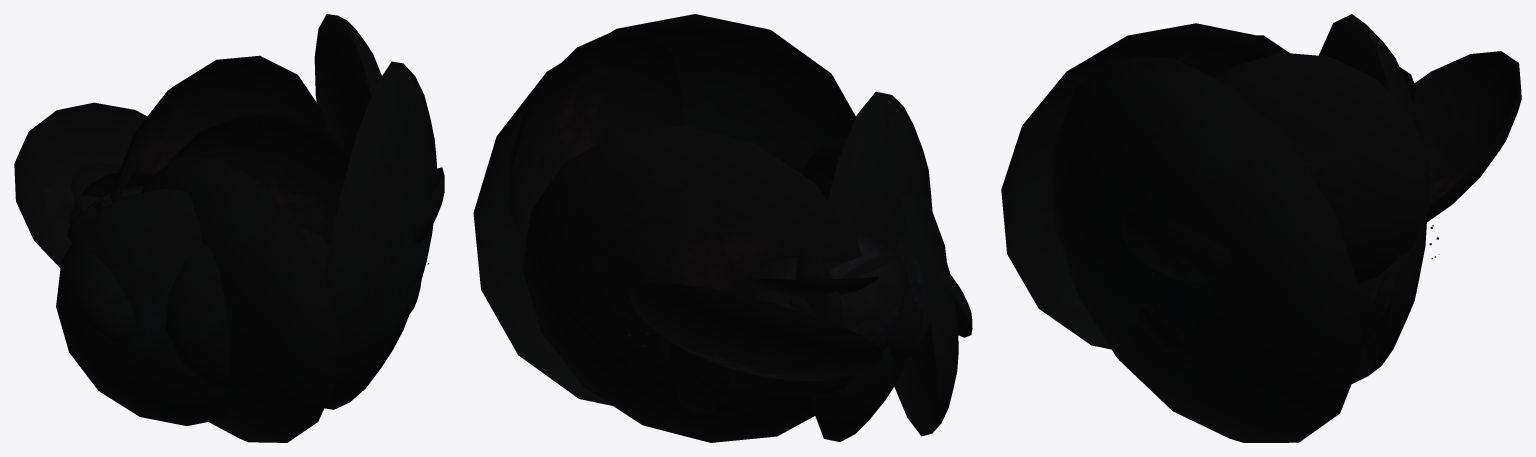
The model's file is SpaceCube_Nebulas.dae.
The picture shows the model from 3 angles, left to right: view 1: azimuth 30°, elevation 25°; view 2: azimuth 150°, elevation 25°; view 3: azimuth 270°, elevation 25°; orthographic projection. The views are drawn at different scales.
Visible parts, largest first — view 1: nebula3, nebula24, nebula9, nebula1, nebula22, nebula10, nebula35, nebula21, nebula23, nebula32, nebula30, nebula12 (+1 smaller); view 2: nebula22, nebula24, nebula21, nebula10, nebula3, nebula9, nebula19, nebula1, nebula20, nebula32, nebula35, nebula12 (+3 smaller); view 3: nebula24, nebula21, nebula3, nebula10, nebula22, nebula30, nebula1, nebula27.
Part boxes in pixels (x1=…): nebula3: x1=141, y1=157, x2=337, y2=442; nebula24: x1=324, y1=61, x2=436, y2=409; nebula9: x1=56, y1=188, x2=228, y2=425; nebula1: x1=167, y1=113, x2=351, y2=245; nebula22: x1=111, y1=55, x2=327, y2=202; nebula10: x1=14, y1=102, x2=146, y2=267; nebula35: x1=166, y1=227, x2=329, y2=390; nebula21: x1=314, y1=14, x2=381, y2=152; nebula23: x1=76, y1=254, x2=137, y2=342; nebula32: x1=70, y1=163, x2=121, y2=218; nebula30: x1=413, y1=167, x2=444, y2=243; nebula12: x1=69, y1=170, x2=152, y2=242; nebula22: x1=522, y1=125, x2=861, y2=442; nebula24: x1=473, y1=14, x2=855, y2=405; nebula21: x1=508, y1=29, x2=682, y2=251; nebula10: x1=628, y1=282, x2=882, y2=380; nebula3: x1=811, y1=91, x2=932, y2=441; nebula9: x1=881, y1=163, x2=958, y2=436; nebula19: x1=788, y1=234, x2=907, y2=325; nebula1: x1=669, y1=285, x2=731, y2=414; nebula20: x1=886, y1=229, x2=930, y2=361; nebula32: x1=745, y1=276, x2=879, y2=298; nebula35: x1=802, y1=138, x2=946, y2=347; nebula12: x1=796, y1=247, x2=844, y2=327; nebula24: x1=1052, y1=58, x2=1361, y2=442; nebula21: x1=1219, y1=52, x2=1430, y2=283; nebula3: x1=1001, y1=23, x2=1284, y2=349; nebula10: x1=1412, y1=51, x2=1521, y2=222; nebula22: x1=1319, y1=14, x2=1427, y2=383; nebula30: x1=1121, y1=213, x2=1234, y2=282; nebula1: x1=1358, y1=261, x2=1396, y2=346; nebula27: x1=1137, y1=308, x2=1199, y2=363.
Size of the model in its own units: 40.07 by 34.09 by 40.17.
Materials: 7 (7 with a texture image).
